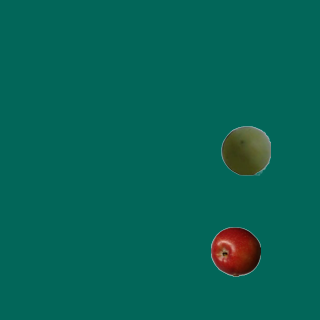Apple Braeburn: (210, 226, 260, 276)
Grape White 4: (220, 125, 270, 175)
